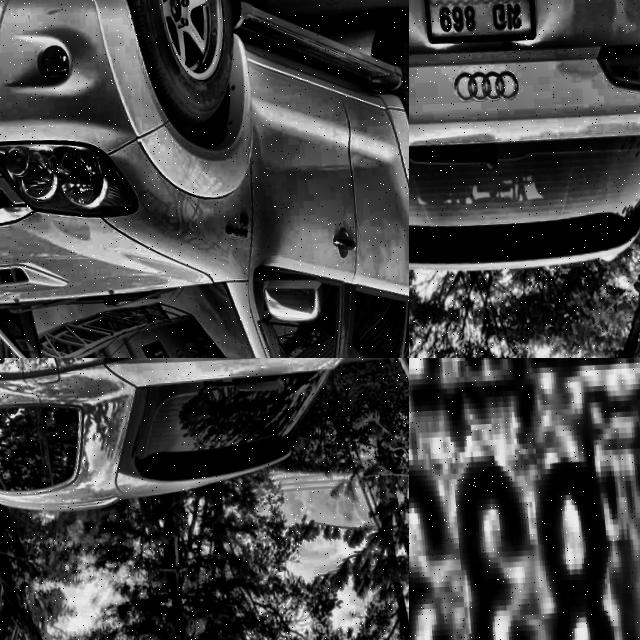license-plate: (409, 358, 640, 640), (416, 0, 533, 52)
